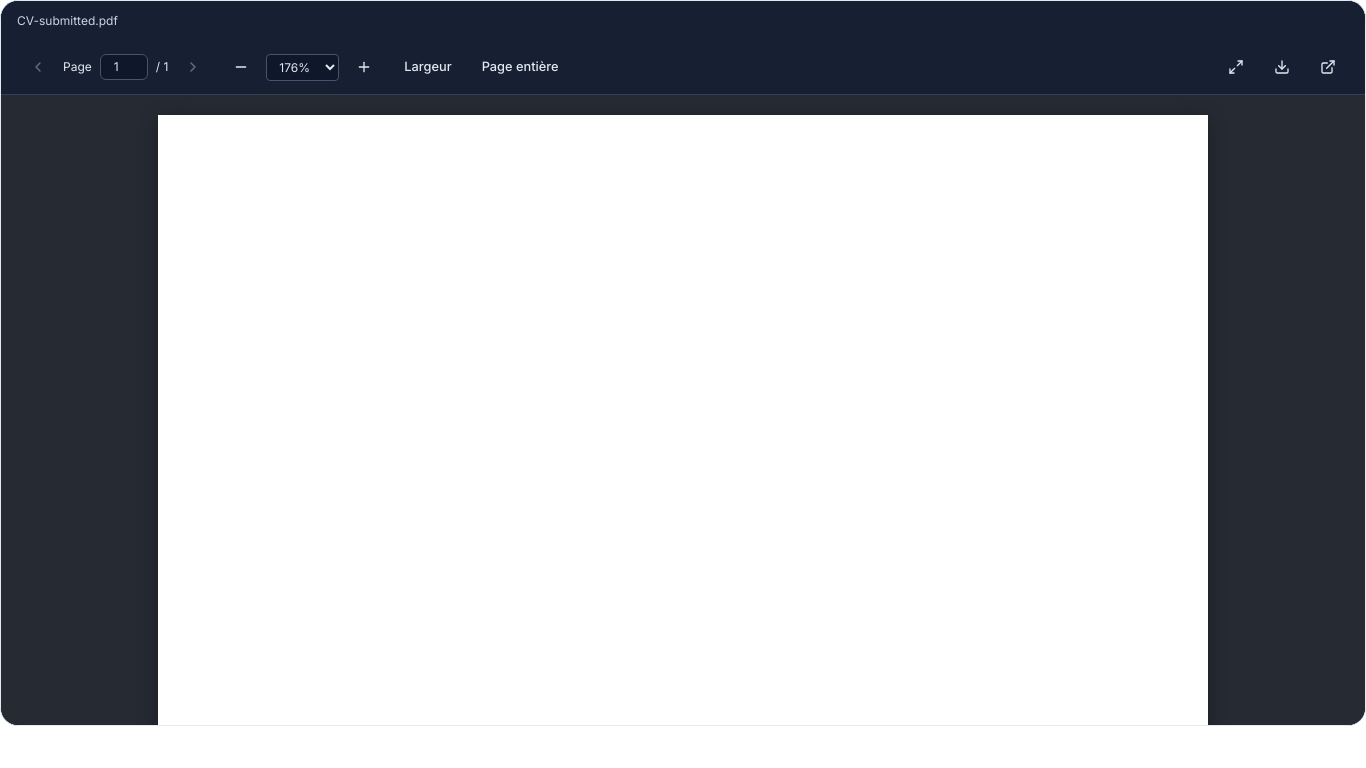
it: readable shared PDF viewer › places close in the preview toolbar and closes the overlay
Step 1. Click the button named "Prévisualiser le PDF" → (1328, 67), box [1307,50,1349,84]
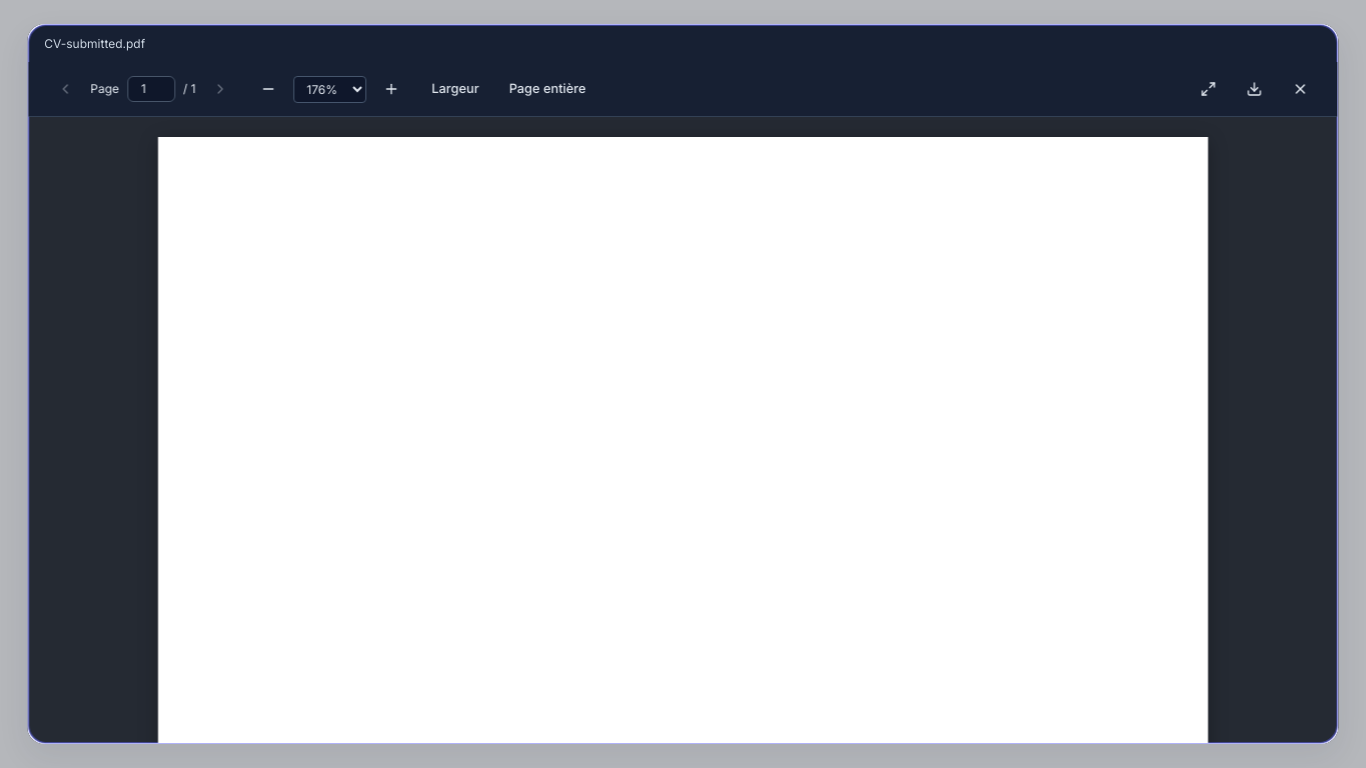
Step 2. Click the button named "Fermer" → (1301, 89), box [1280,72,1322,106]
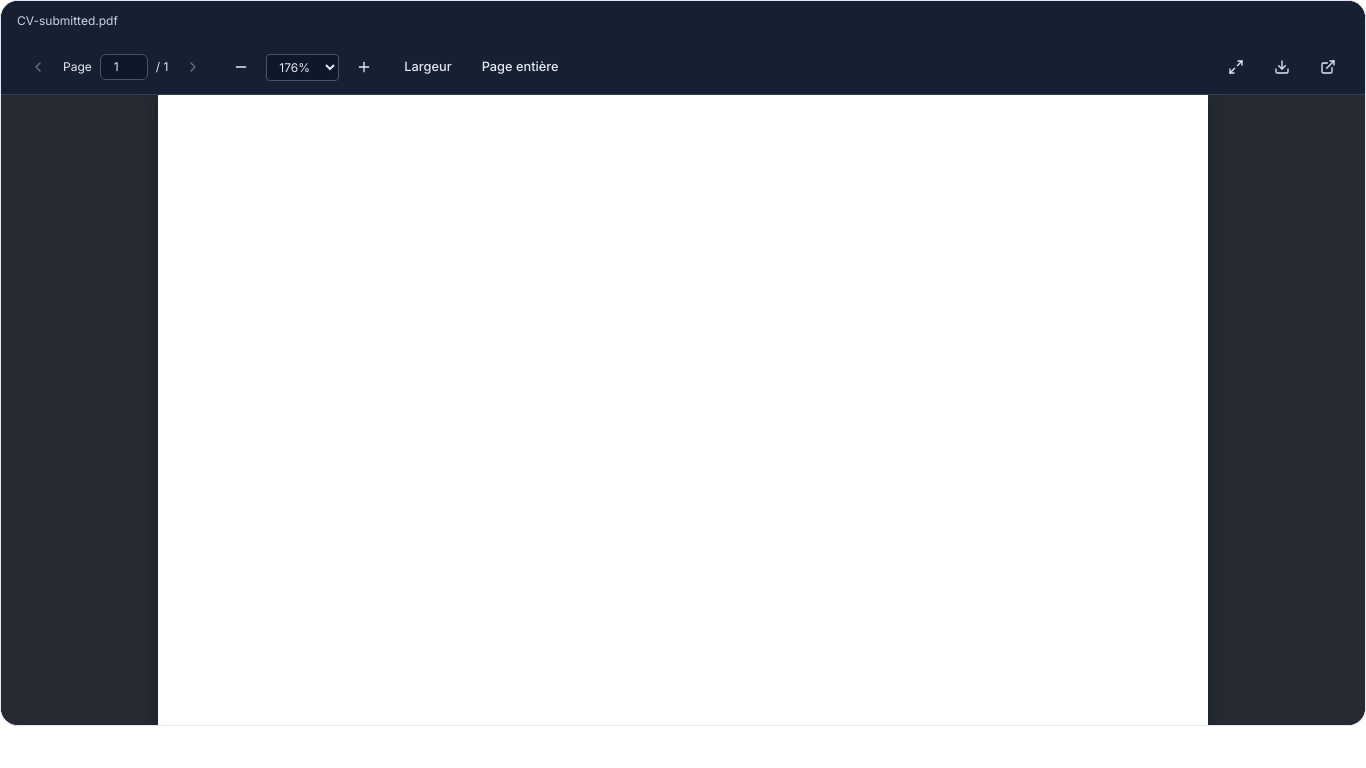
Check: the dialog is gone
